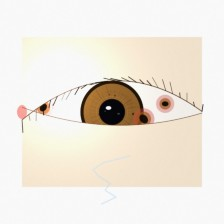foreign_body_visible: (119, 99, 168, 139)
